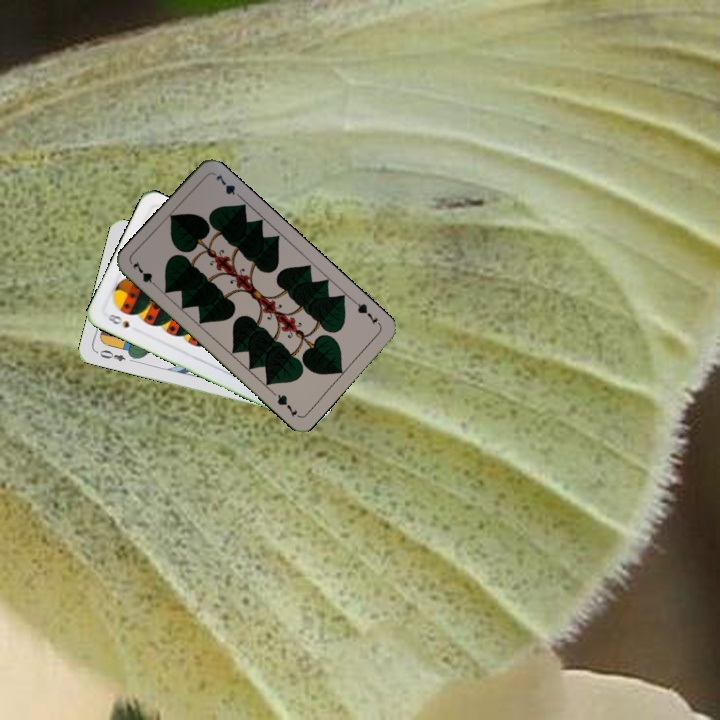EO: (96, 346, 128, 364)
G7: (128, 257, 162, 291), (350, 297, 383, 328)
S8: (103, 310, 132, 331)
